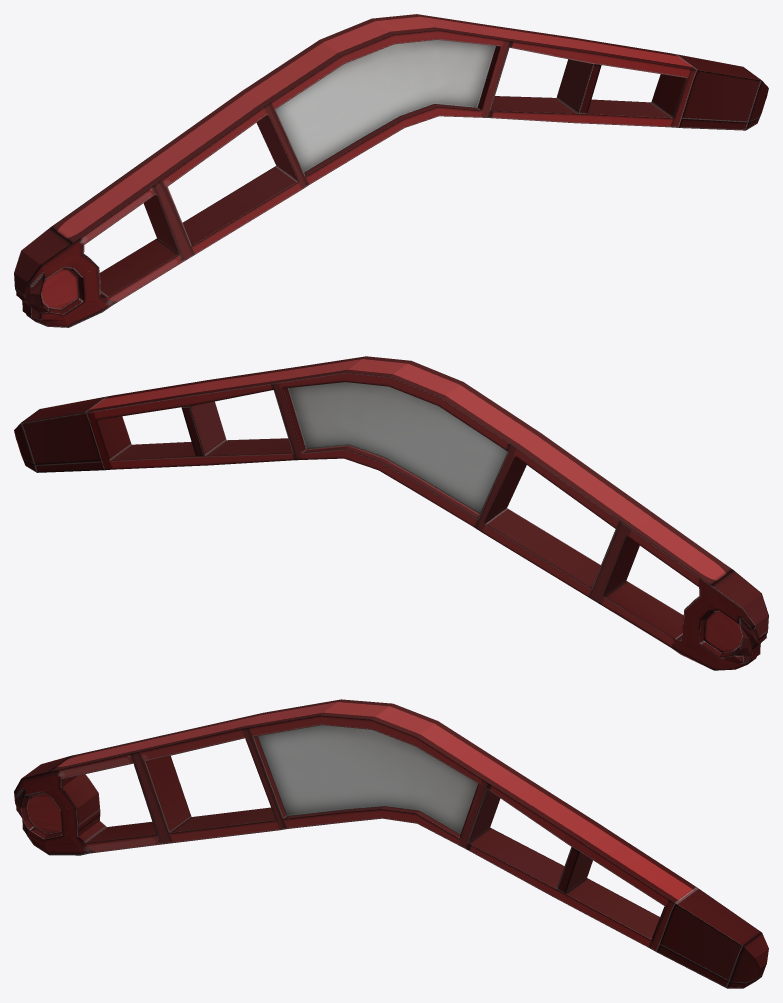
File: Boomrang.fbx
The picture shows the model from 3 angles, top to bottom: view 1: azimuth 30°, elevation 25°; view 2: azimuth 150°, elevation 25°; view 3: azimuth 330°, elevation 25°; orthographic projection.
Parts seen in each view (by area): view 1: pCube1; view 2: pCube1; view 3: pCube1.
Part boxes in pixels (<box>): pCube1: <box>14,14,768,327</box>; pCube1: <box>14,356,768,670</box>; pCube1: <box>14,699,768,988</box>.
Bounding box in the file's own units: 14.54 × 4.02 × 0.7373.
1 material, 1 textured.
